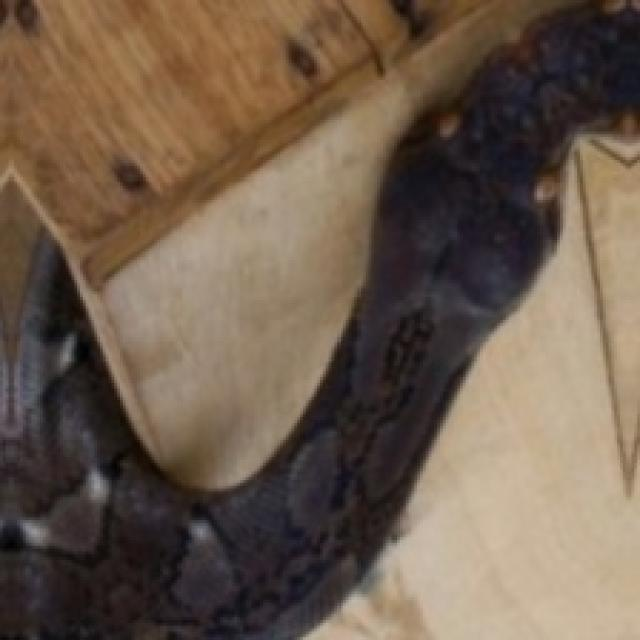reticulated python: (0, 6, 637, 637)
